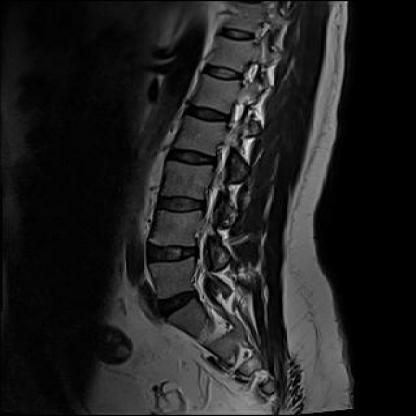Disc Bulgerotation: (142, 240, 204, 267), (149, 292, 207, 319)
